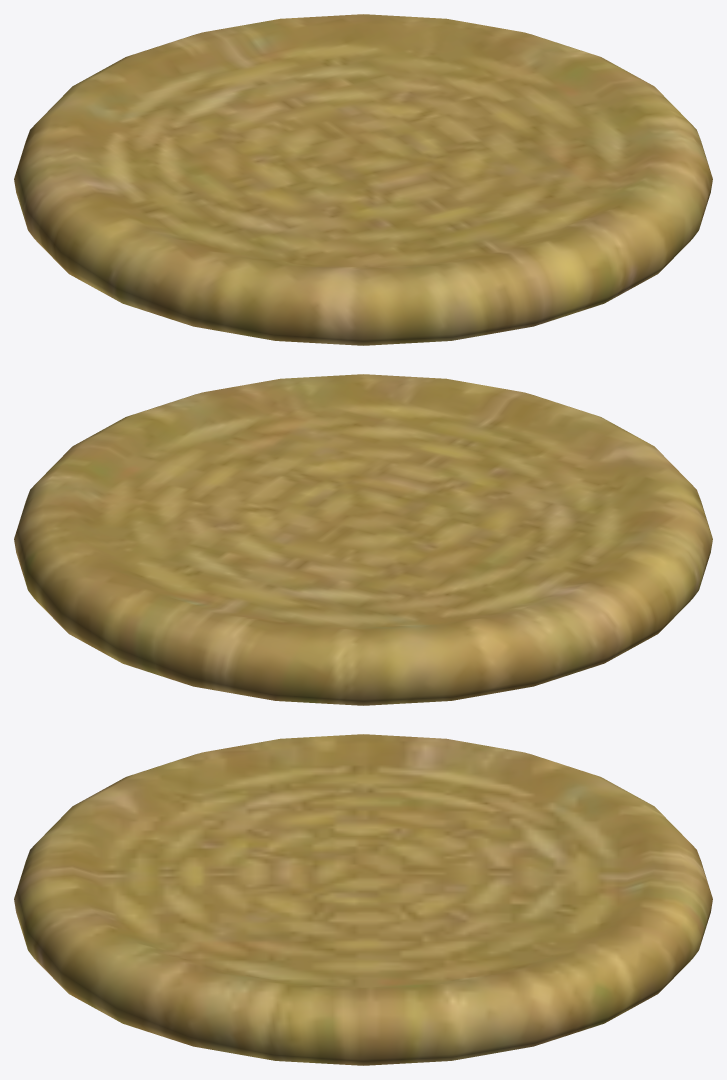
3 views of the same model, one above another, from view 1: azimuth 30°, elevation 25°; view 2: azimuth 150°, elevation 25°; view 3: azimuth 270°, elevation 25° (orthographic).
Size of the model in its own units: 8.16 by 0.7512 by 8.16.
1 material, 1 textured.
